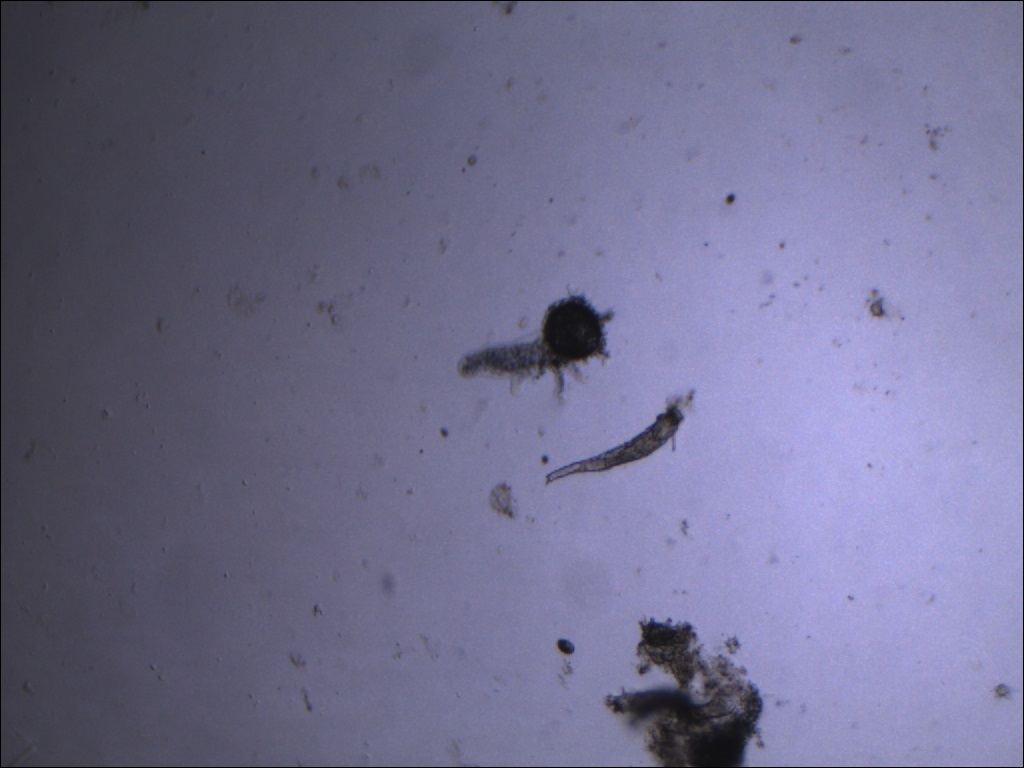amoeba: (449, 288, 624, 406)
